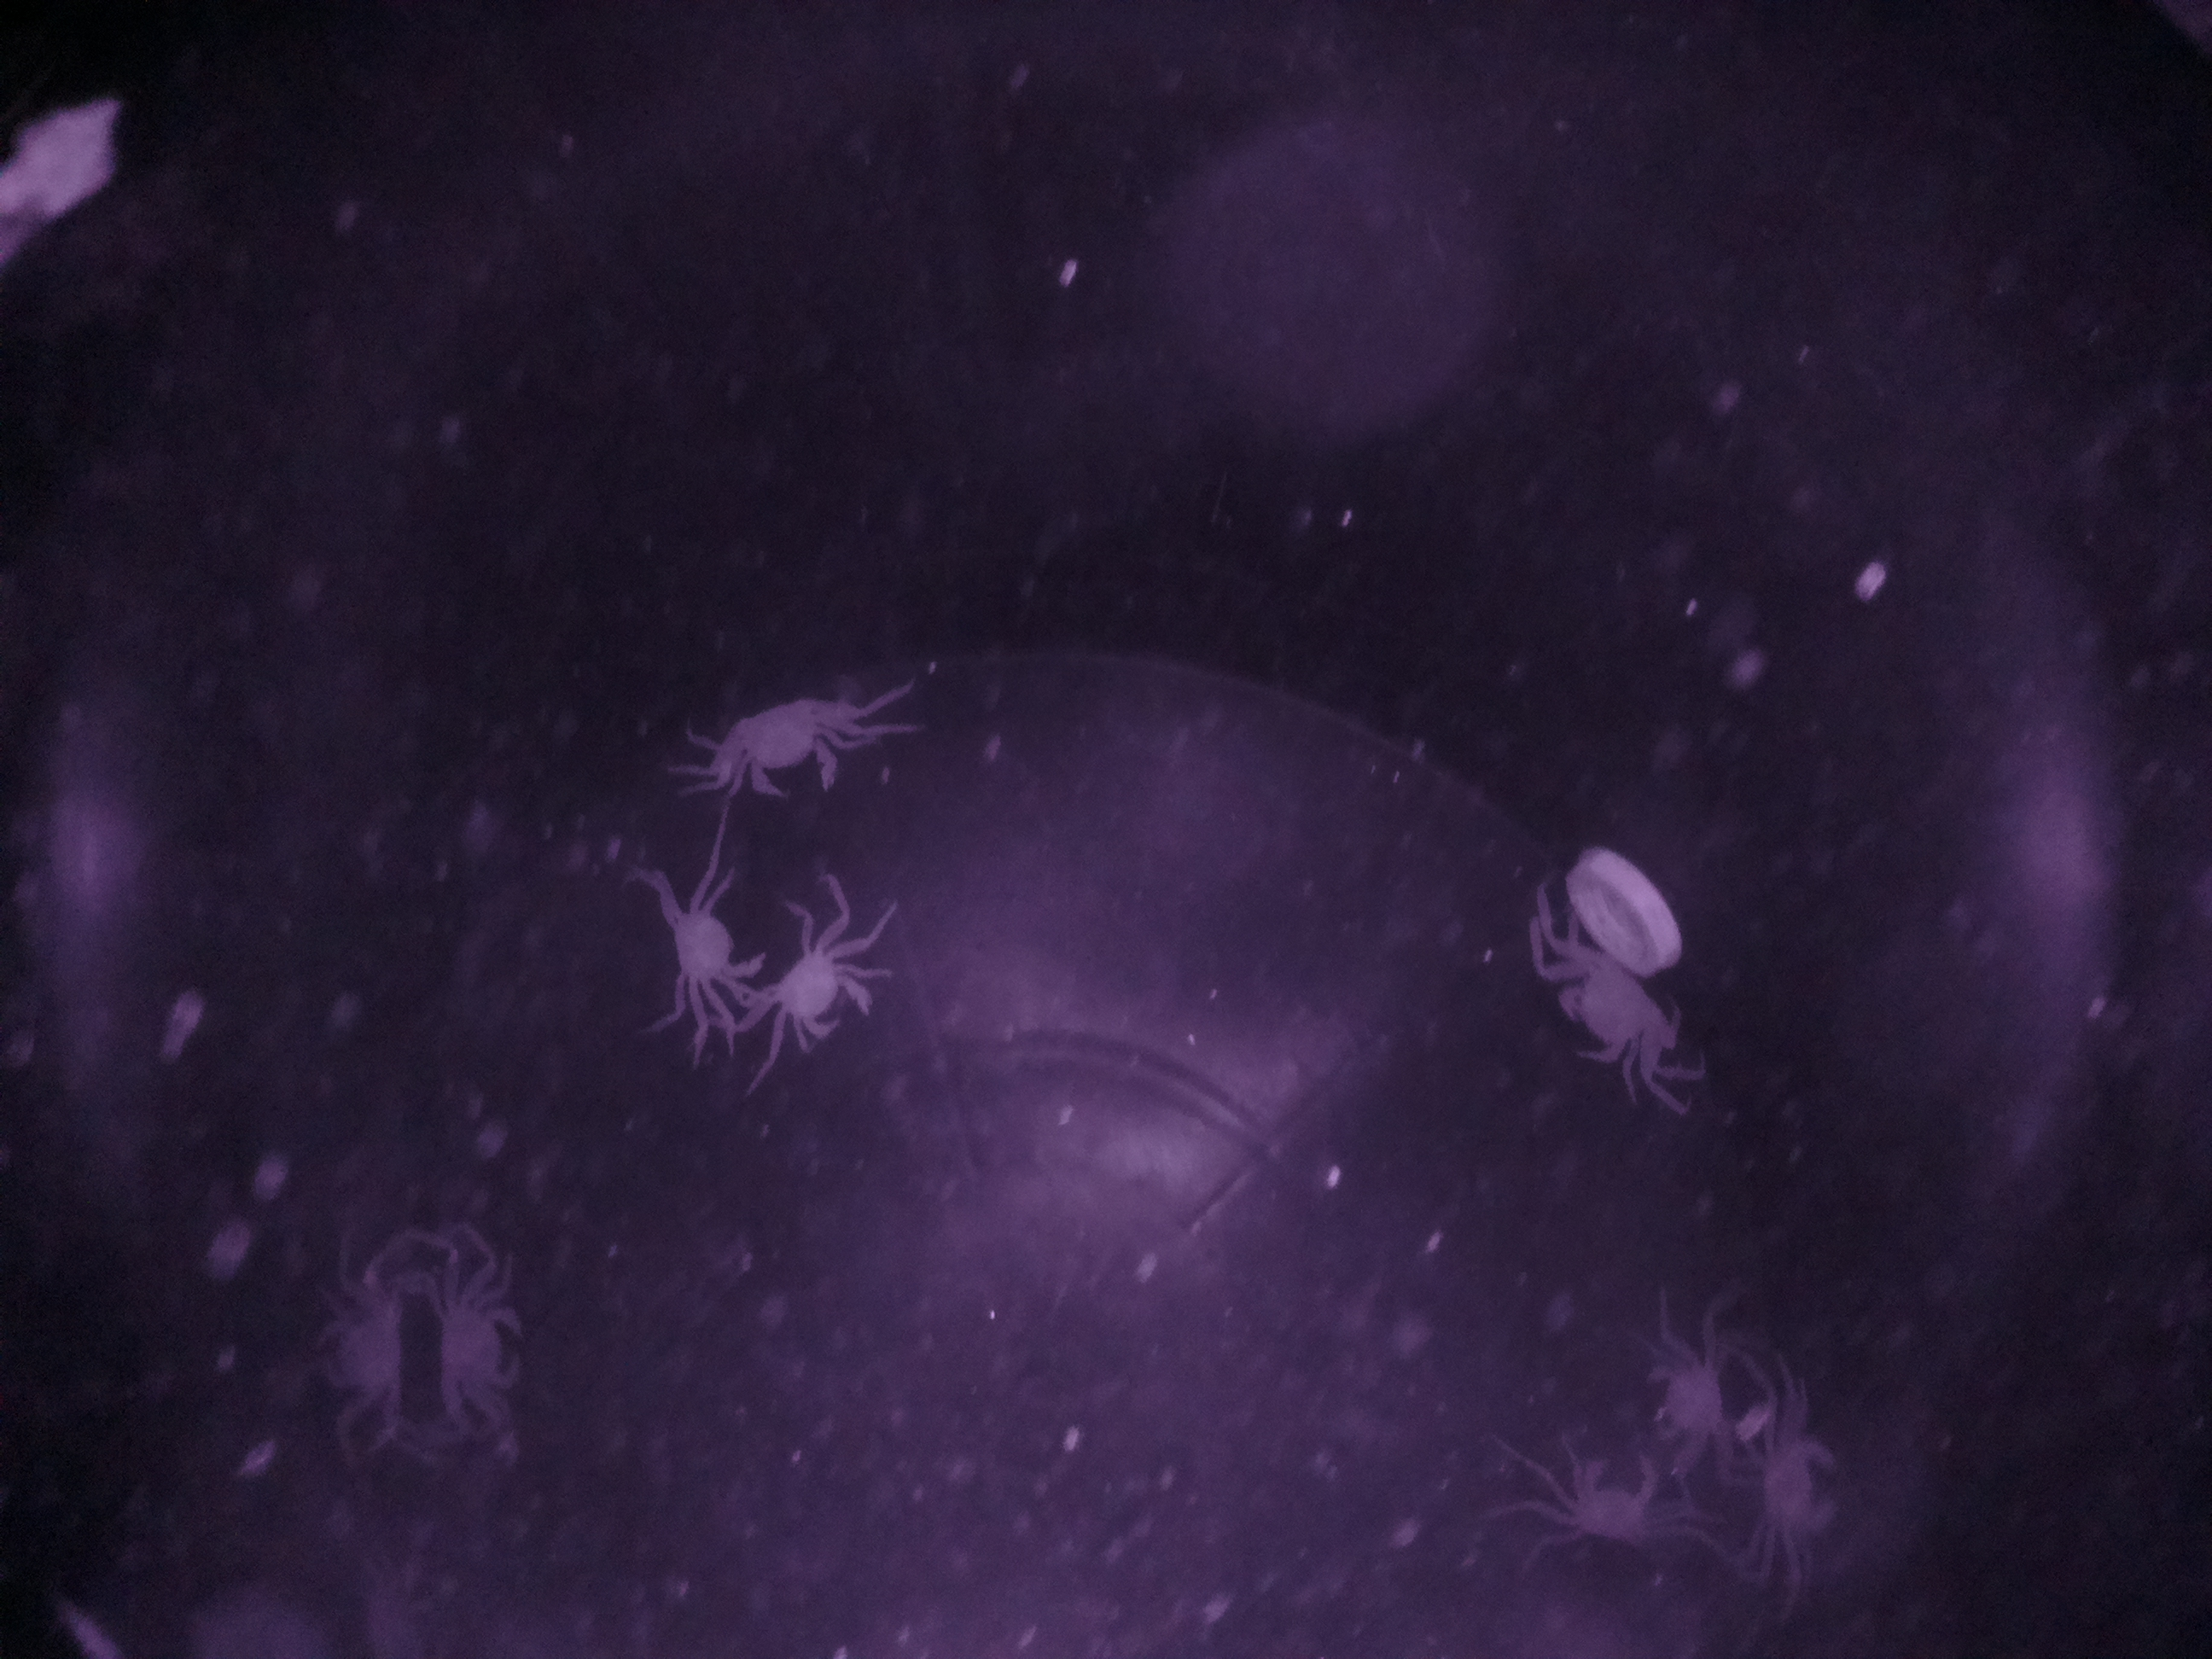Crab: (286, 1265, 421, 1455), (421, 1267, 557, 1431), (1538, 925, 1683, 1079), (697, 678, 857, 816), (1527, 1427, 1686, 1561), (756, 925, 888, 1077), (644, 857, 754, 1012)
